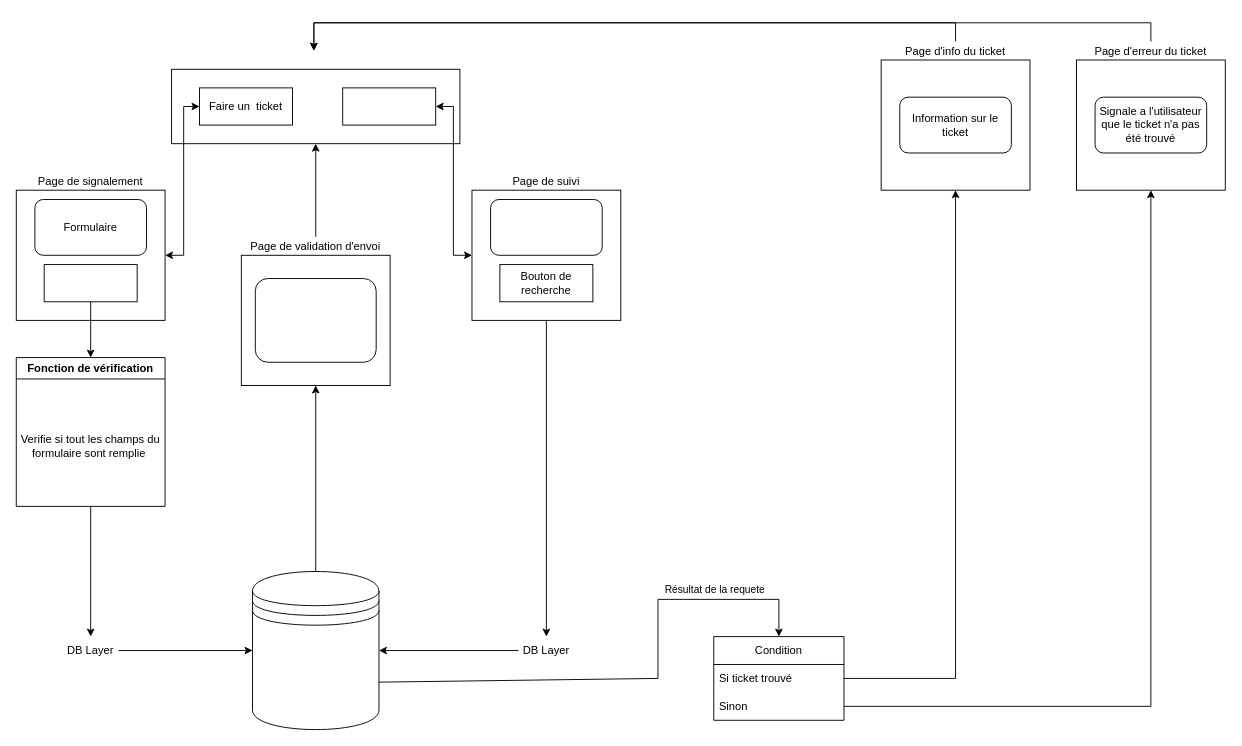
Image size: 1242x746. Some labels were removed from this diagram. Each missing label, with the box of its shape:
Bouton d'envoi: (43, 264, 137, 302)
Champ du code de suivi: (490, 199, 602, 255)
DB Table signalements: (252, 571, 379, 730)
Indique a l'utilisateur que le ticket a bien été envoyé et sera traité: (254, 278, 376, 362)
Page d'accueil: (171, 68, 460, 144)
Suivre un ticket: (342, 87, 436, 125)
